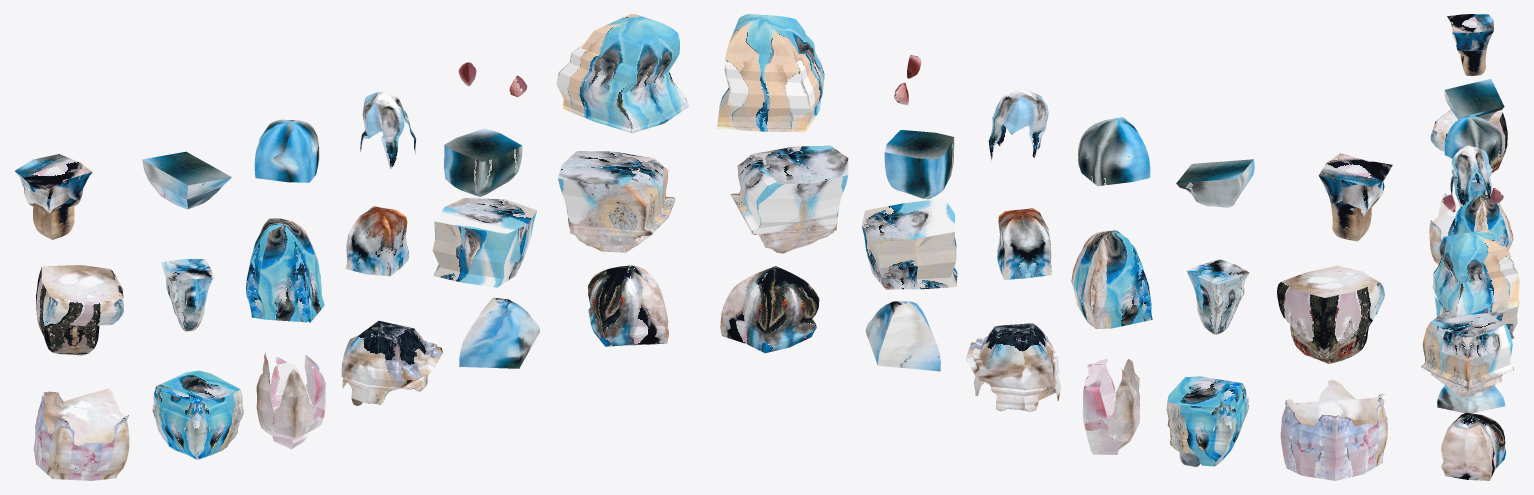
3 renders of one model, left to right at view 1: azimuth 30°, elevation 25°; view 2: azimuth 150°, elevation 25°; view 3: azimuth 270°, elevation 25°, orthographic. The views are drawn at different scales.
Visible parts, largest first — view 1: SPLICE_2 (×8), SPLICE_1 (×7), SPLICE_3 (×3); view 2: SPLICE_2 (×8), SPLICE_1 (×7), SPLICE_3 (×3); view 3: SPLICE_1 (×6), SPLICE_3 (×3), SPLICE_2 (×4), metamorphosis_v2001.
Part boxes in pixels (box(x1,y1,x2,y2)): SPLICE_2 (×8): box(33, 128, 668, 480); SPLICE_1 (×7): box(142, 14, 688, 405); SPLICE_3 (×3): box(15, 151, 675, 355); SPLICE_2 (×8): box(720, 130, 1387, 480); SPLICE_1 (×7): box(717, 14, 1254, 411); SPLICE_3 (×3): box(731, 145, 1392, 363); SPLICE_1 (×6): box(1432, 79, 1519, 316); SPLICE_3 (×3): box(1421, 14, 1513, 397); SPLICE_2 (×4): box(1429, 193, 1518, 480); metamorphosis_v2001: box(1442, 188, 1503, 212).
Bounding box in the file's own units: 12.51 × 6.31 × 2.16.
Materials: 19 (19 with a texture image).
